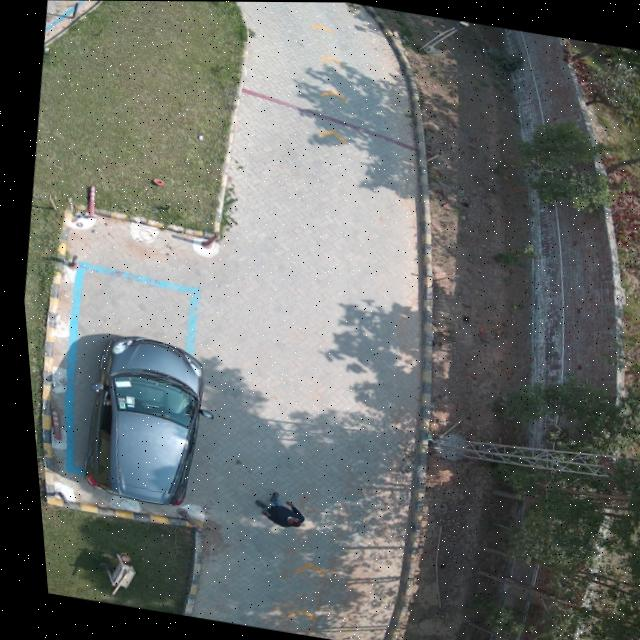car: (76, 334, 198, 507)
